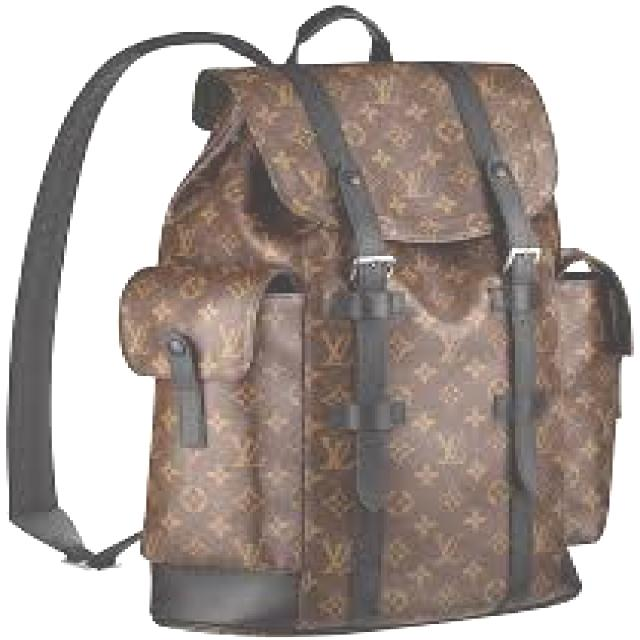backpack: (4, 4, 632, 636)
